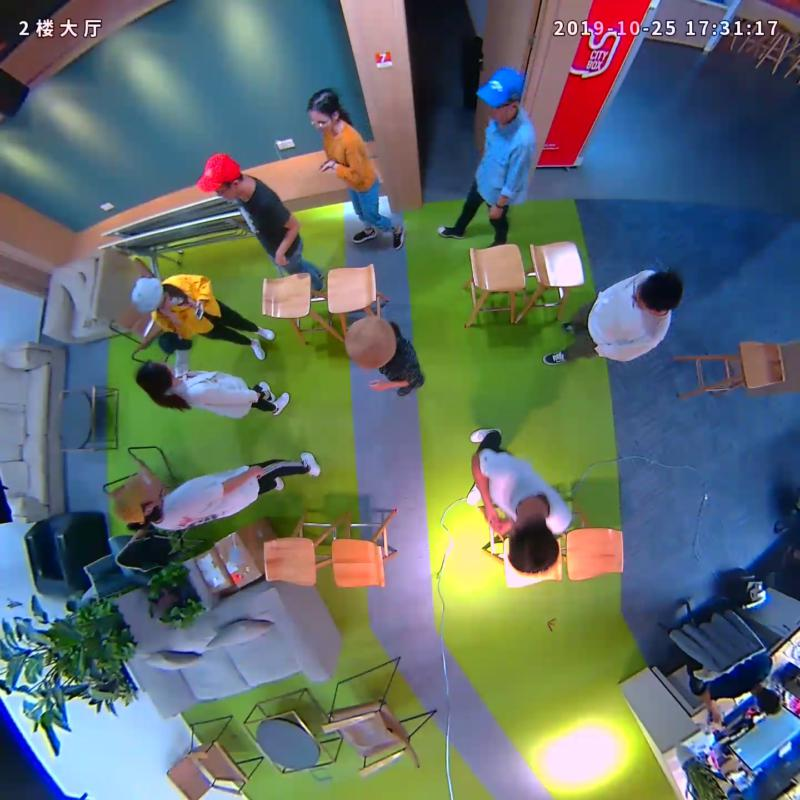head: (507, 516, 558, 576), (345, 316, 398, 371), (475, 69, 524, 120), (196, 151, 244, 203), (632, 271, 684, 316), (113, 481, 162, 526), (305, 89, 341, 133), (131, 276, 172, 314), (135, 358, 177, 392)
